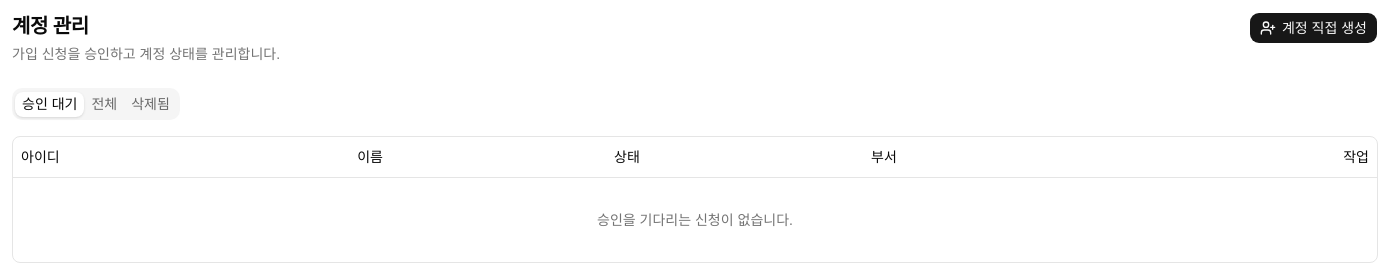
Scenario: 삭제된 계정 › 「삭제됨」 탭에서만 보이고, 원래 아이디와 삭제 날짜가 보이며, 단추가 없다
The image size is (1390, 280).
Click the tab "전체".
click(104, 104)  # box [84,92,124,116]
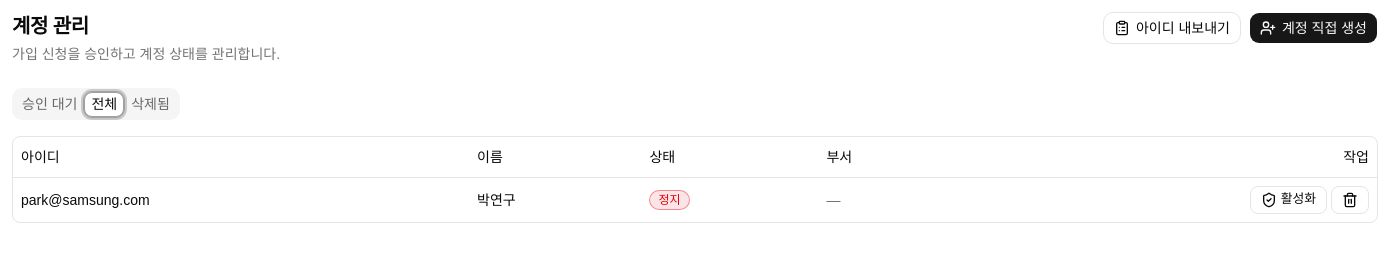
Expected: the text "hong" is not shown
Result: the text "park@samsung.com" is shown at [13,177,469,222]
Result: the button "활성화" is shown at [1250,186,1327,214]
Click the tab "삭제됨".
click(150, 104)  # box [124,92,177,116]
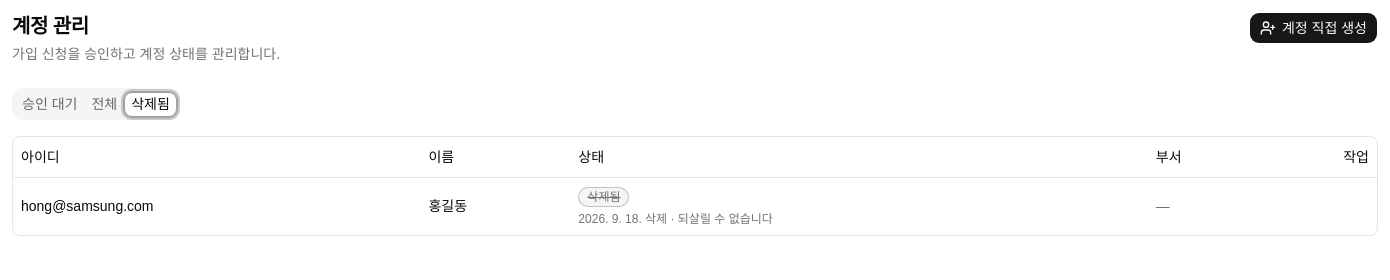
Result: the text "hong@samsung.com" is shown at [13,177,420,234]
Result: the text "2026. 9. 18. 삭제 · 되살릴 수 없습니다" is shown at [578,212,773,226]
Result: the button "활성화" is gone
